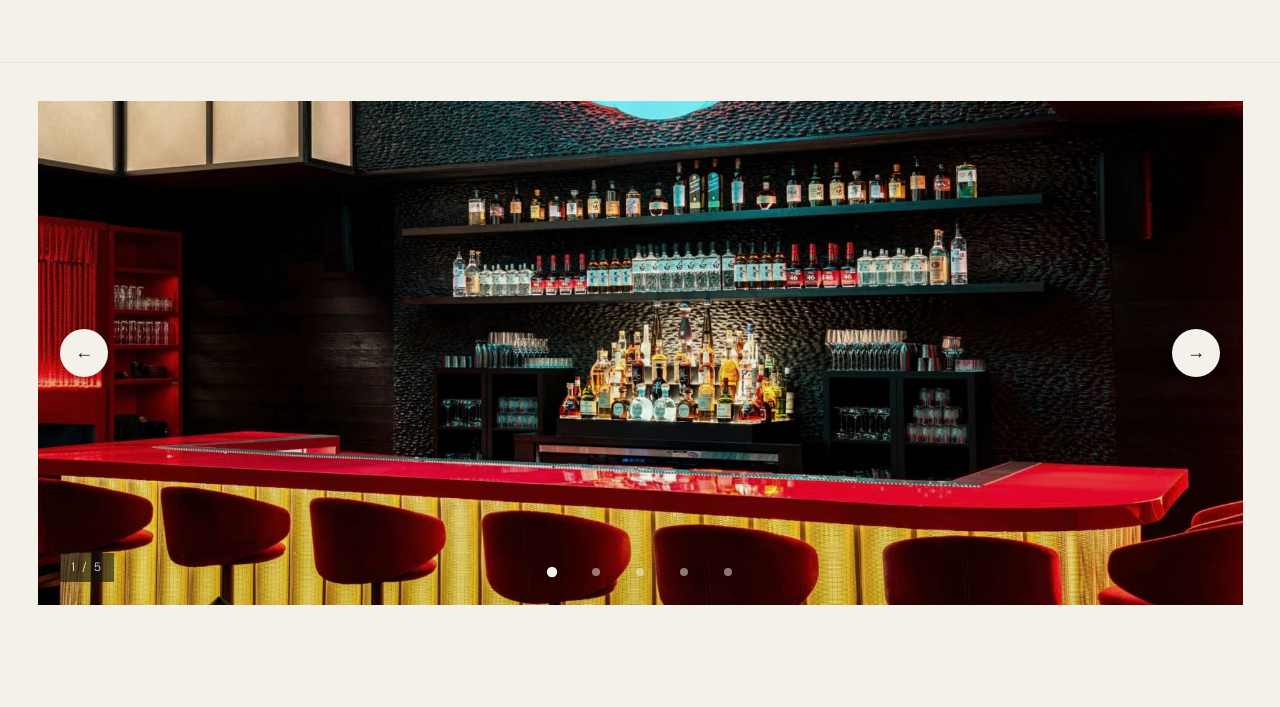
Test: Project page › moves on a swipe of 50px or more and ignores shorter ones
(page scrolled)
Press the mouse on the element named "HAII KEII gallery" at (640, 353), box top-left (38, 101), bottom-right (1242, 605)
expect the text "1 / 5" is shown: met, box top-left (60, 553), bottom-right (114, 582)
Press the mouse on the element named "HAII KEII gallery" at (640, 353), box top-left (38, 101), bottom-right (1242, 605)
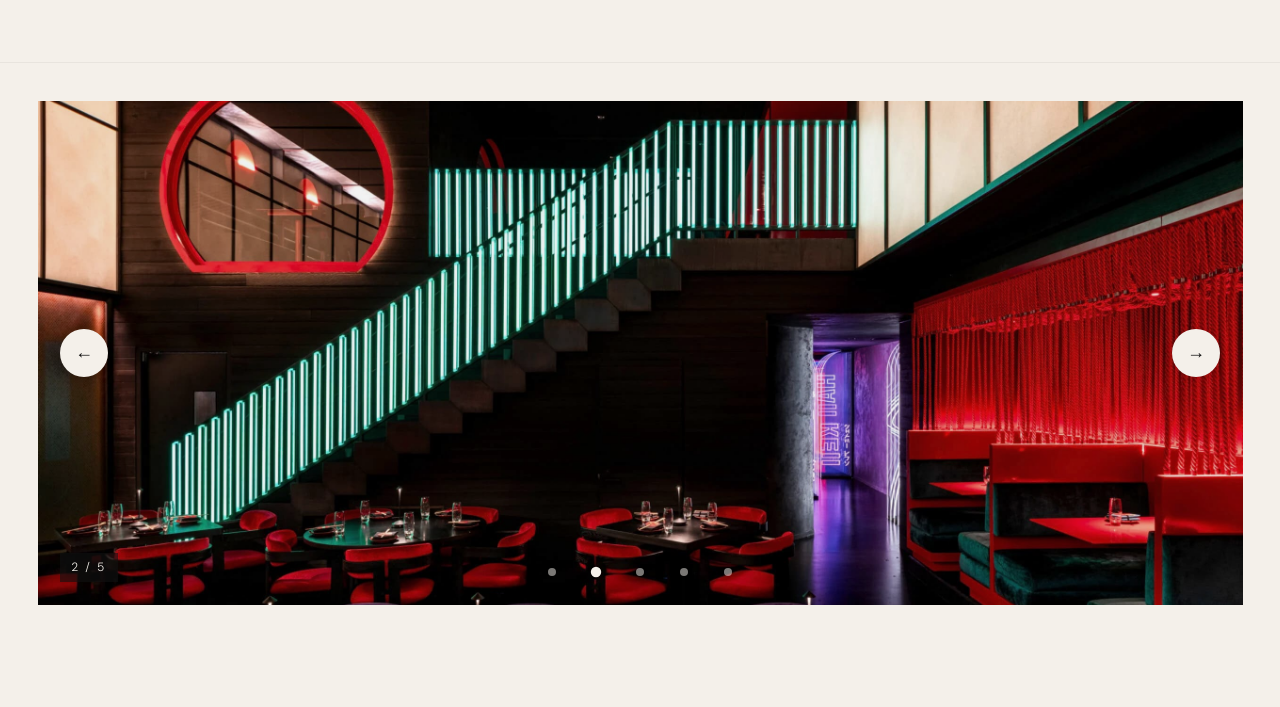
expect the text "2 / 5" is shown: met, box top-left (60, 553), bottom-right (118, 582)
